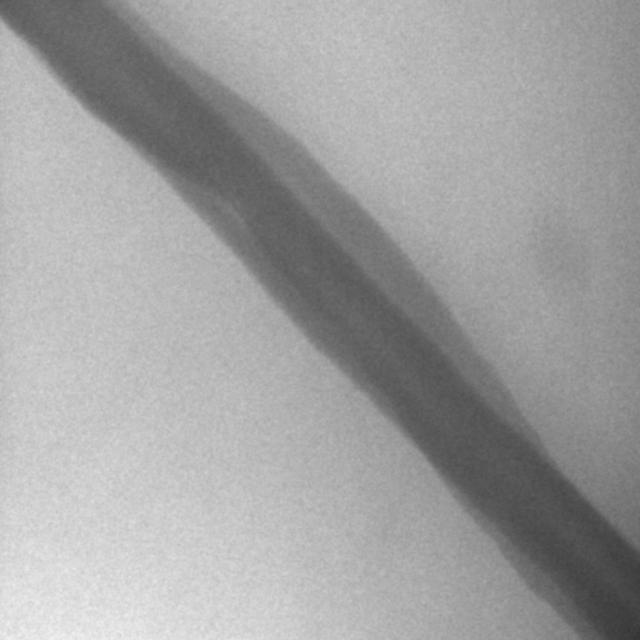unfused: (196, 177, 262, 250)
